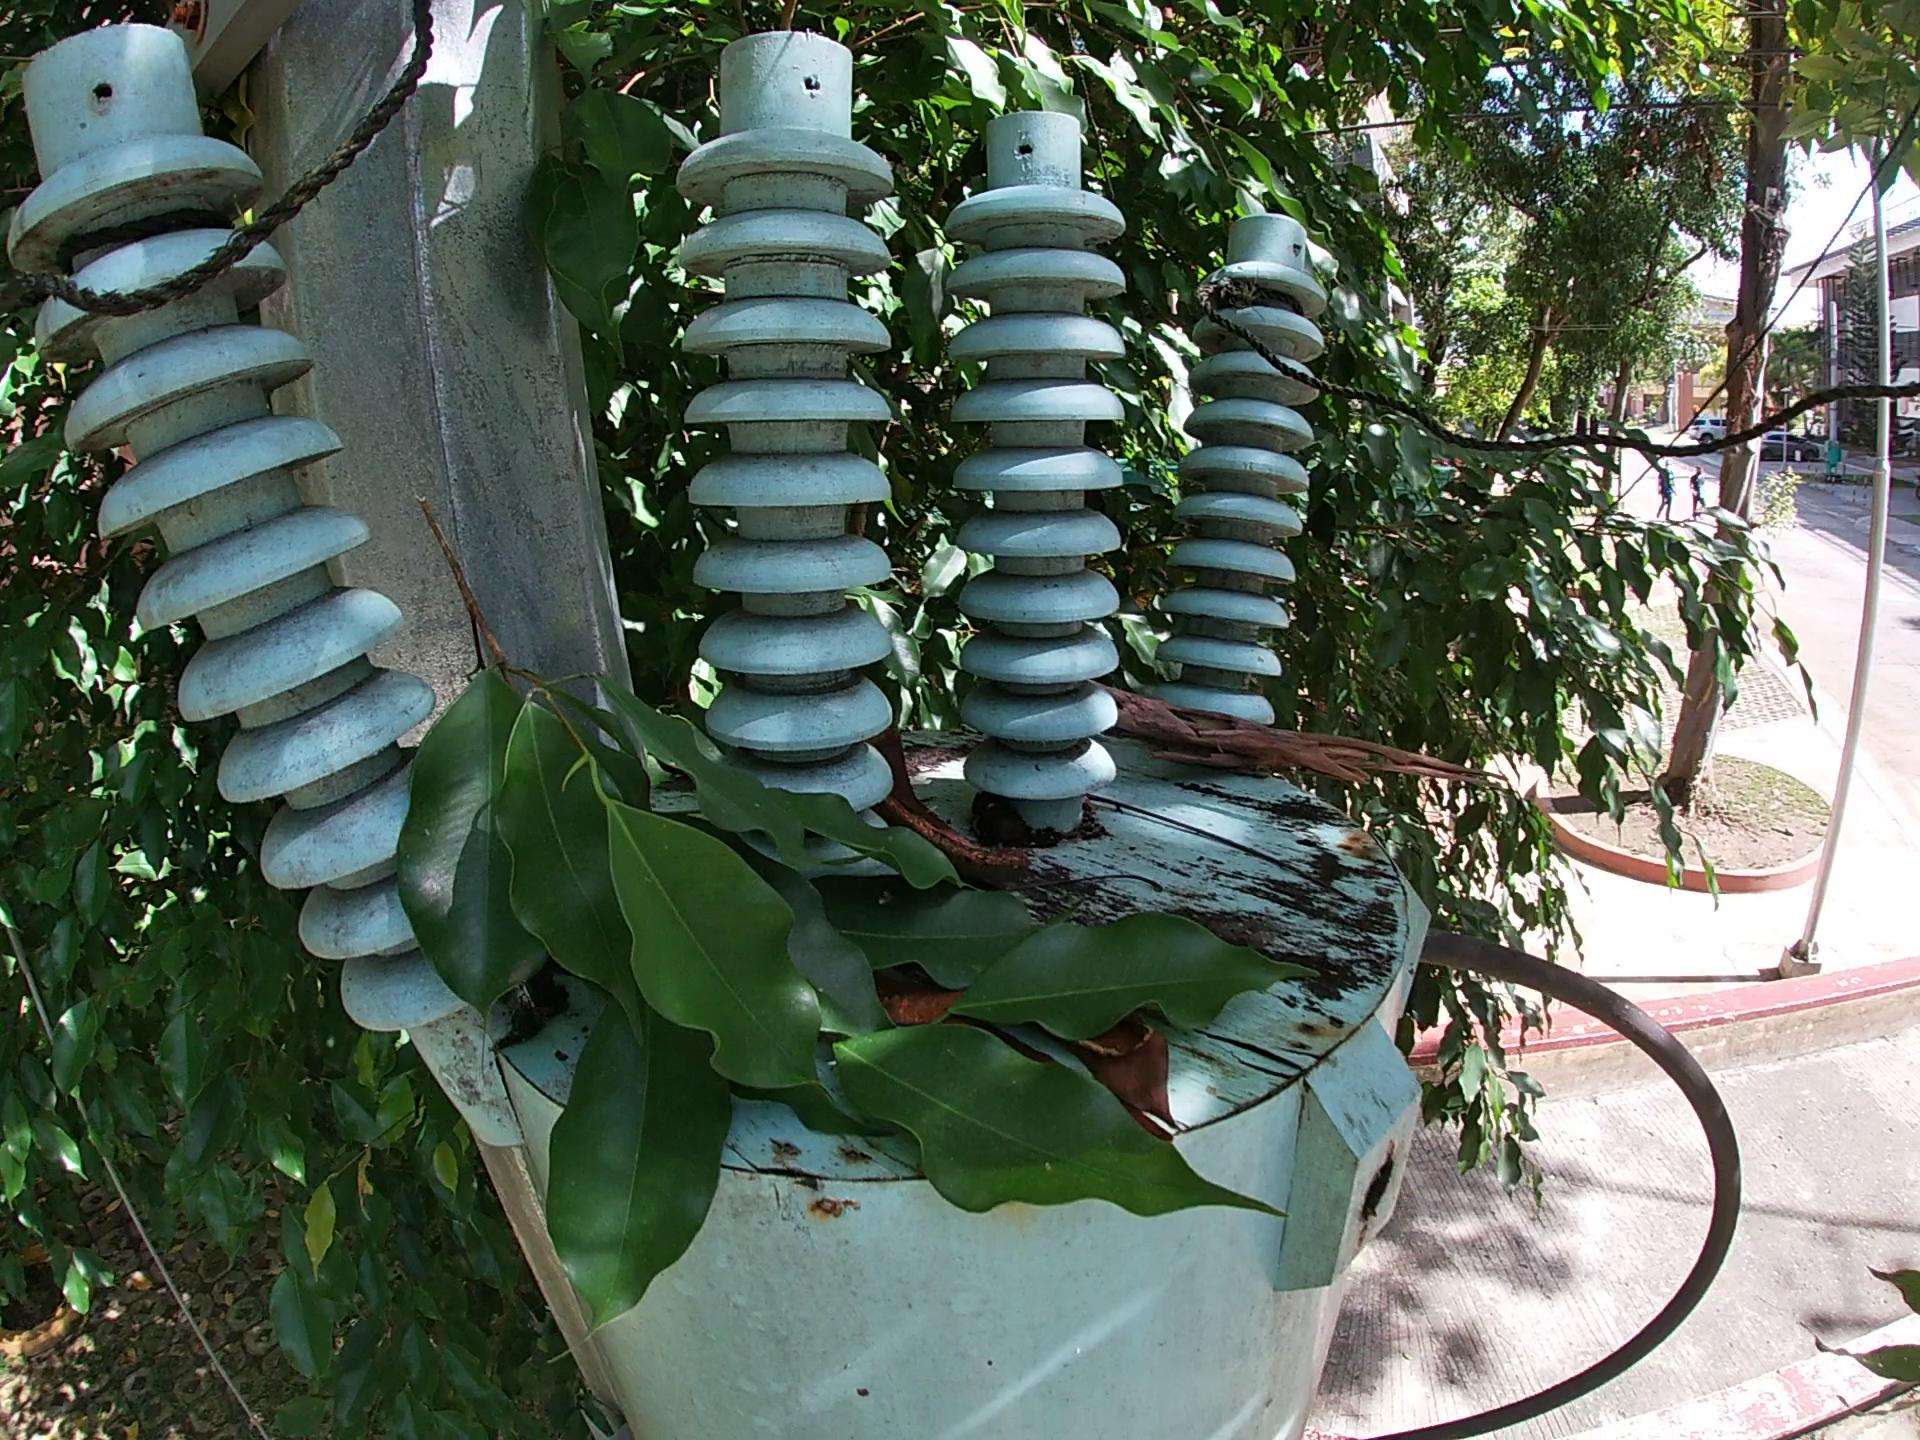branch with leaves: (379, 498, 1361, 1319)
mahogany fruit: (884, 974, 1212, 1128), (866, 688, 1054, 882)
tree branch: (1084, 664, 1522, 815), (1079, 781, 1347, 902)
